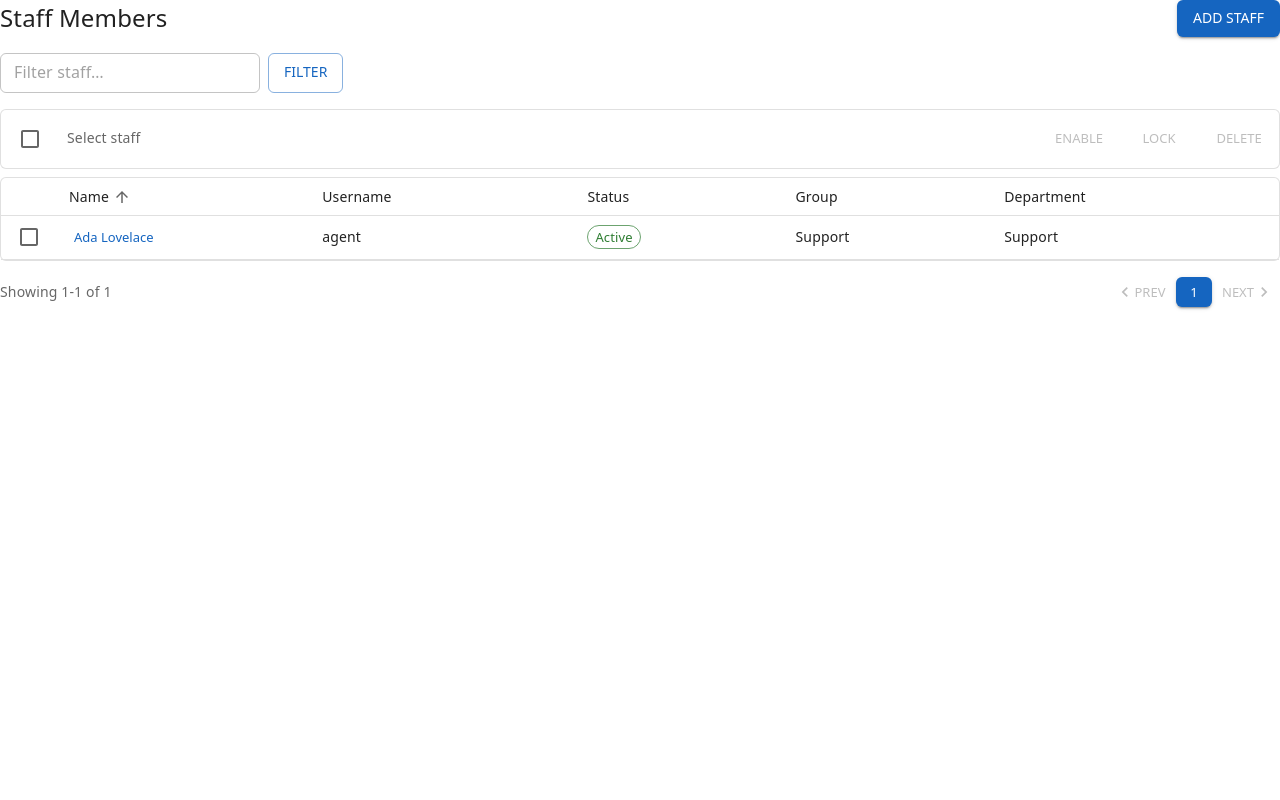
Test case: StaffListPage (TS-M4-B2) › surfaces a duplicate-username 422 inline under Username (dialog stays open)
Expected: the button "Ada Lovelace" is shown, [69,222,159,253]
Click the button with test id "add-staff".
click(1228, 18)  # box [1177,0,1279,36]
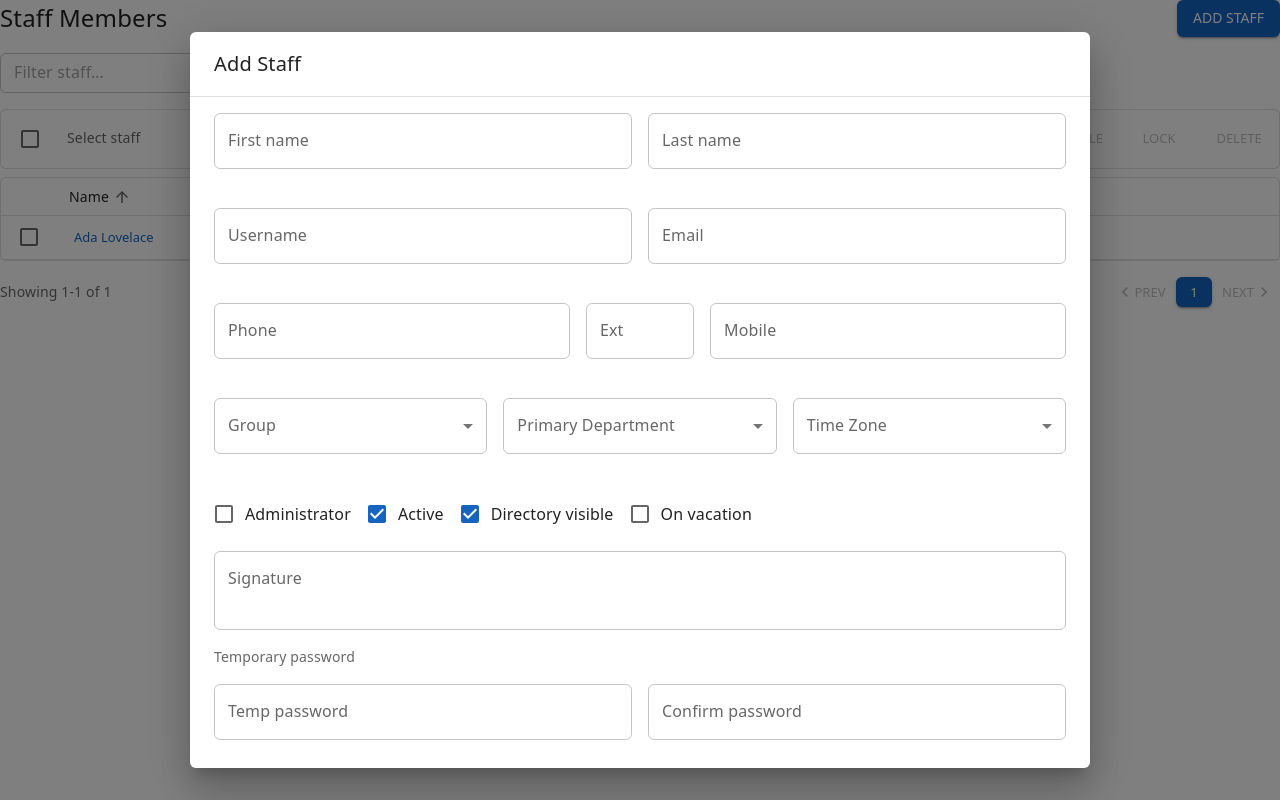
Type "agent" into the field with test id "staff-username".
click(423, 236); type("agent")  # box [214,208,632,264]
(page scrolled)
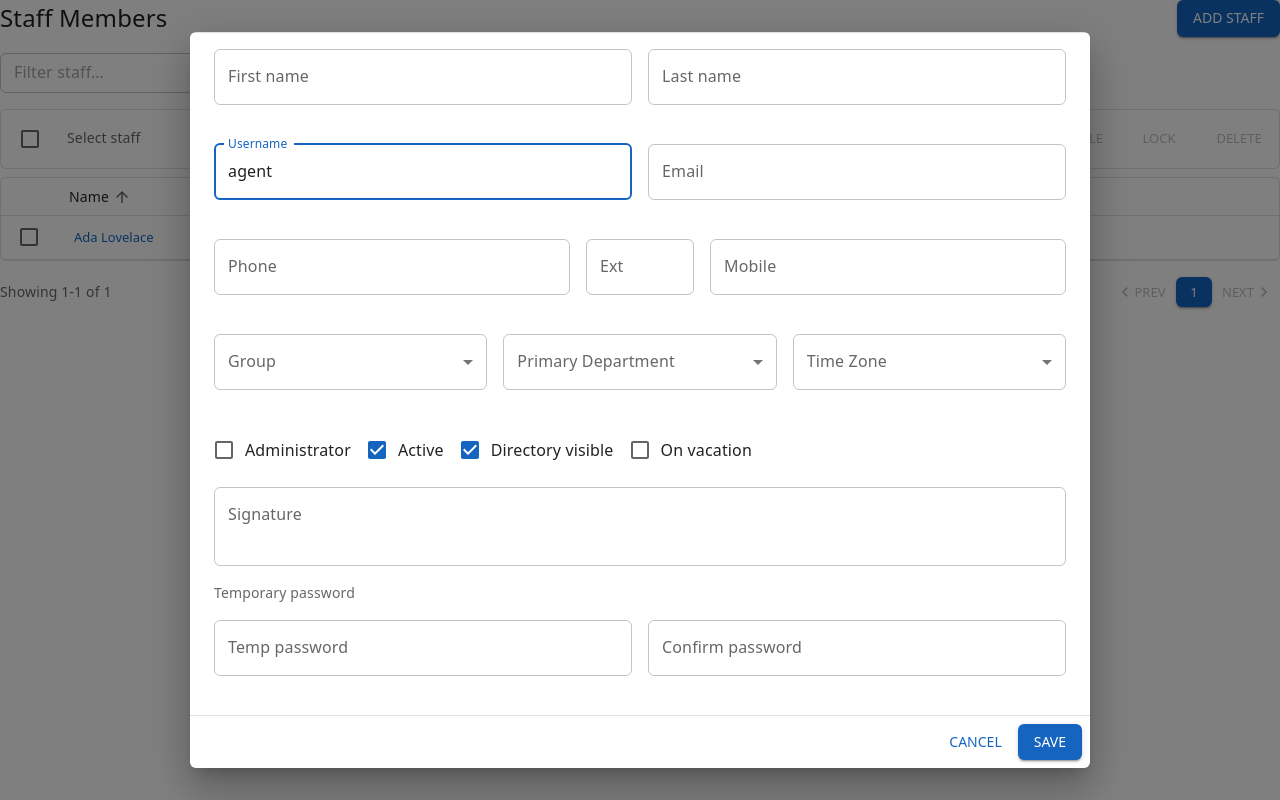
Click the button with test id "staff-save".
click(1050, 742)  # box [1018,724,1082,760]
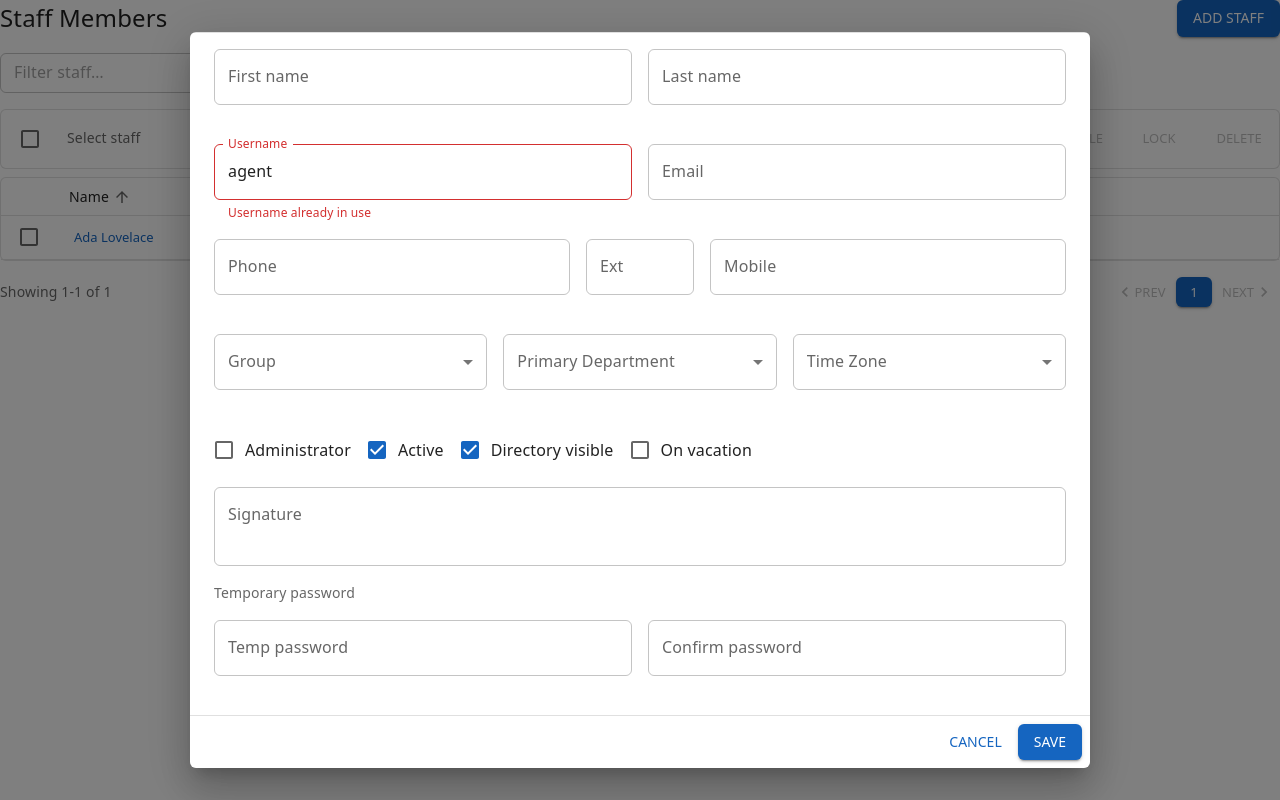
Expected: the dialog is shown
Expected: the text "Username already in use" is shown, [228,204,371,221]
